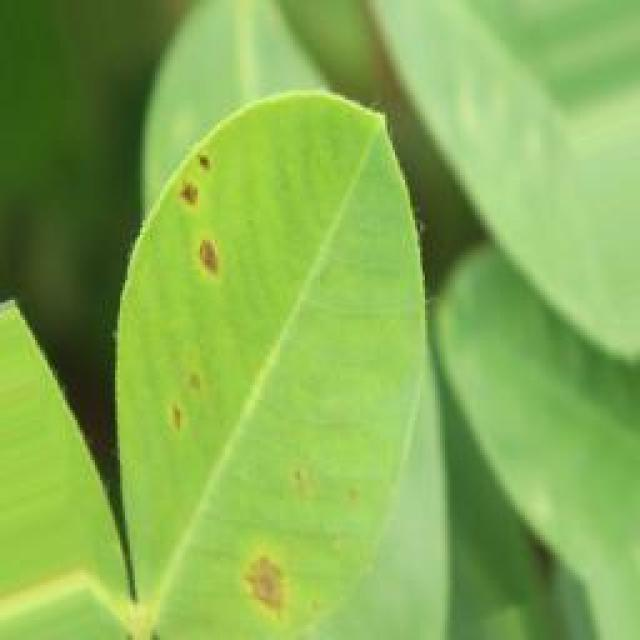Sigatoka: (172, 154, 248, 295), (217, 537, 310, 634), (264, 460, 371, 525), (159, 378, 205, 452)
